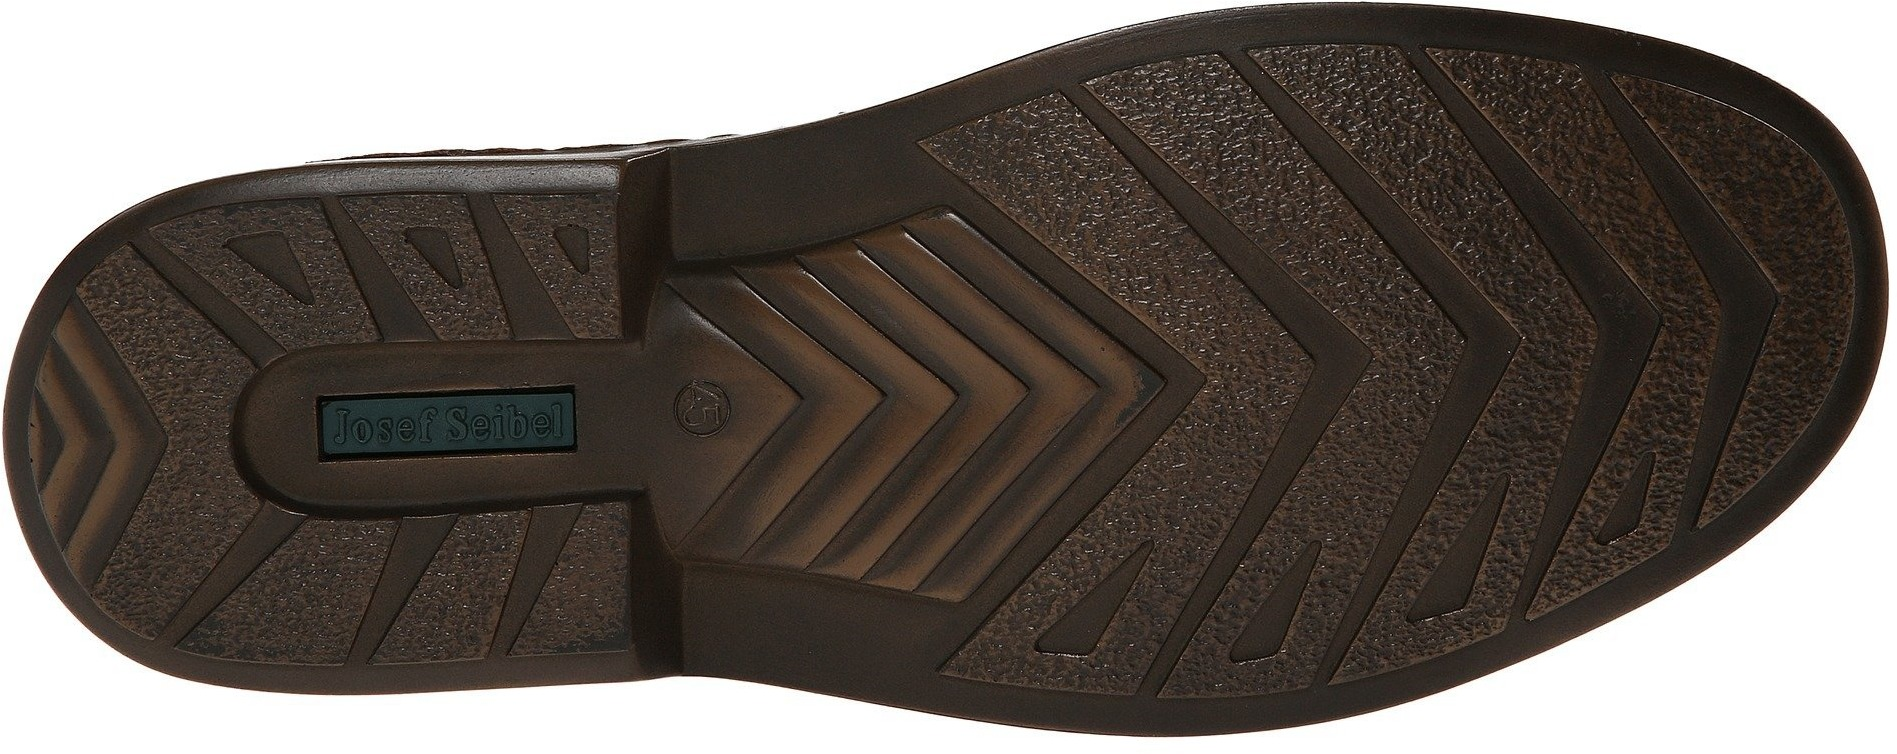chevron: (1160, 182, 1486, 460), (1511, 226, 1780, 433), (740, 318, 946, 480), (951, 311, 1153, 470), (54, 363, 191, 499)
exclude: (621, 85, 840, 720)
text: (448, 393, 511, 457), (331, 393, 391, 455), (519, 390, 573, 456), (397, 402, 446, 449)
